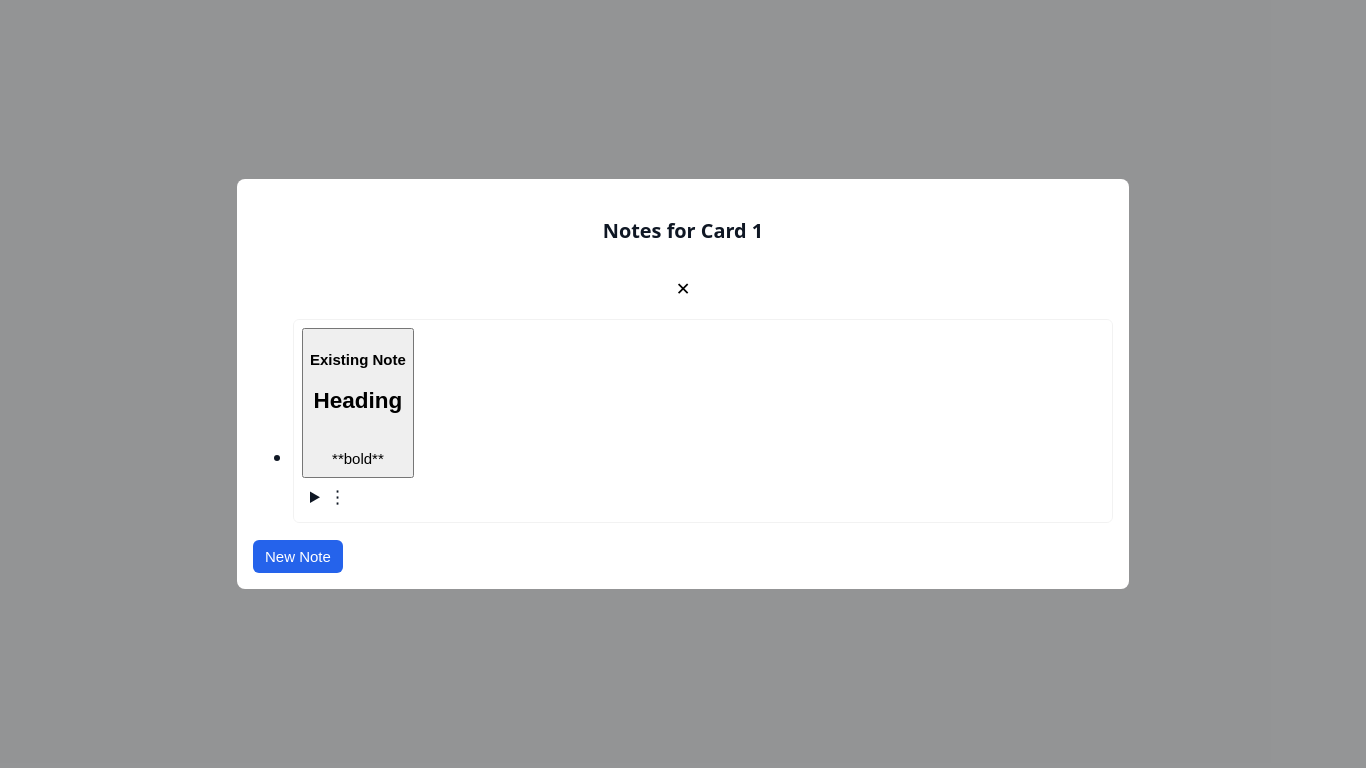
Test: opening a note shows sanitized HTML in NoteView
The image size is (1366, 768).
What coordinates should you click on to do the following:
click the button with aria-label "Open note Existing Note"
I would click on:
 (358, 403)
Its box is [302, 328, 414, 478].
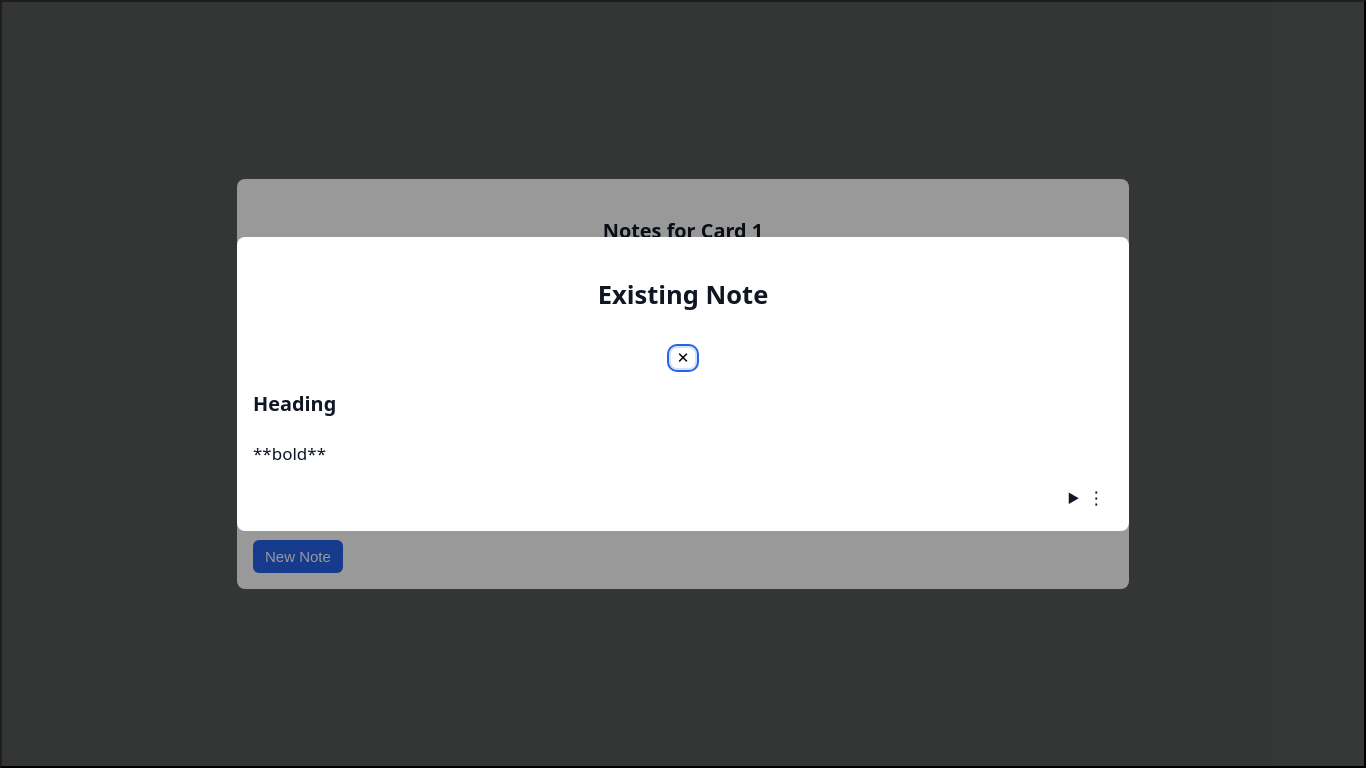
Now the heading "Heading" is shown, box [253, 390, 336, 417]
Now the text "Heading **bold**" is shown, box [253, 390, 336, 465]
